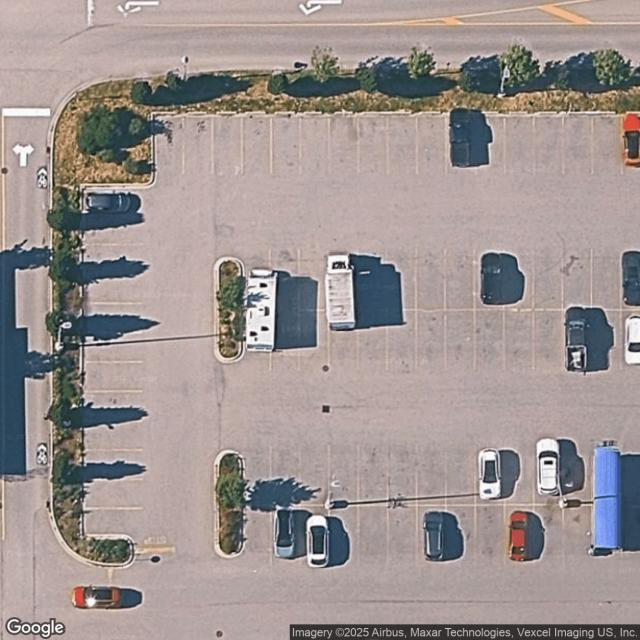car: (248, 270, 275, 351), (327, 255, 356, 330), (566, 303, 589, 373), (451, 109, 473, 169), (536, 438, 558, 497), (307, 516, 330, 568), (480, 253, 503, 305), (479, 448, 501, 499), (423, 509, 444, 562), (276, 506, 296, 560), (510, 511, 529, 563), (623, 251, 640, 307), (85, 192, 132, 212), (624, 113, 640, 169), (624, 312, 640, 366)
lot_boundary: (81, 111, 639, 568)
objects: (596, 444, 627, 559)
stall: (269, 309, 300, 372), (532, 116, 563, 178), (299, 310, 330, 372), (592, 247, 623, 309), (182, 118, 214, 178), (592, 117, 623, 178), (446, 308, 476, 371), (590, 308, 620, 371), (358, 310, 388, 373), (534, 308, 564, 371), (153, 118, 184, 178), (329, 311, 359, 373), (387, 310, 417, 372), (502, 116, 532, 177), (562, 117, 592, 178), (446, 248, 476, 309), (328, 250, 358, 311), (388, 117, 418, 177), (329, 117, 359, 177), (300, 118, 330, 178), (448, 116, 478, 176), (562, 247, 592, 307), (358, 250, 388, 310), (84, 330, 144, 360), (84, 188, 144, 218), (563, 309, 592, 371), (416, 248, 445, 309), (503, 248, 532, 309), (299, 250, 328, 311), (386, 249, 415, 310), (506, 309, 534, 372), (358, 116, 387, 176), (417, 118, 447, 176), (476, 310, 505, 370), (271, 249, 300, 309), (83, 362, 143, 391), (84, 303, 144, 332), (84, 479, 144, 508), (84, 450, 144, 479), (82, 421, 142, 450), (84, 391, 144, 420), (301, 506, 331, 564), (300, 446, 330, 504), (273, 506, 303, 564), (244, 506, 274, 564), (243, 448, 273, 506), (388, 446, 418, 504), (535, 504, 565, 562), (476, 504, 506, 562), (446, 504, 476, 562), (505, 447, 535, 505), (477, 446, 507, 504), (563, 503, 593, 561), (565, 446, 595, 504), (214, 117, 242, 179), (272, 117, 300, 178), (476, 248, 504, 309), (534, 247, 562, 308), (243, 308, 270, 371), (273, 447, 302, 505), (418, 446, 447, 504), (388, 504, 417, 562), (358, 506, 387, 564), (359, 446, 388, 504), (329, 506, 358, 564), (330, 446, 359, 504), (535, 446, 564, 504), (505, 504, 534, 562), (447, 447, 476, 505), (419, 506, 448, 564), (244, 118, 272, 178), (84, 274, 144, 302), (84, 246, 144, 274), (84, 216, 144, 244), (418, 309, 445, 371), (246, 249, 271, 310), (478, 116, 503, 176), (84, 509, 142, 533), (622, 310, 640, 370), (623, 246, 640, 309), (623, 118, 640, 178)
